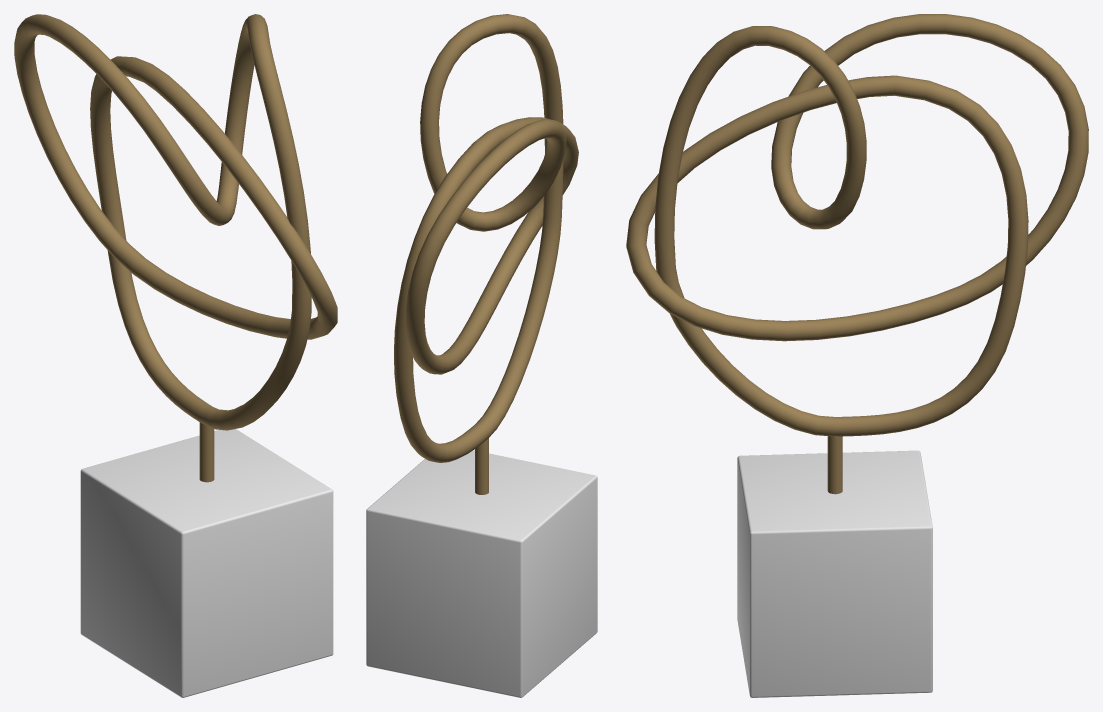
The model's file is Trophy.fbx.
The picture shows the model from 3 angles, left to right: view 1: azimuth 30°, elevation 25°; view 2: azimuth 150°, elevation 25°; view 3: azimuth 270°, elevation 25°; orthographic projection. The views are drawn at different scales.
Parts seen in each view (by area): view 1: Cube.007, Circle.007; view 2: Cube.007, Circle.007; view 3: Circle.007, Cube.007.
Part boxes in pixels (x1=…): Cube.007: x1=80, y1=429, x2=333, y2=697; Circle.007: x1=14, y1=14, x2=337, y2=482; Cube.007: x1=366, y1=450, x2=597, y2=697; Circle.007: x1=394, y1=14, x2=578, y2=494; Circle.007: x1=626, y1=14, x2=1088, y2=494; Cube.007: x1=737, y1=450, x2=932, y2=697.
Size of the model in its own units: 12.69 by 43.36 by 28.41.
